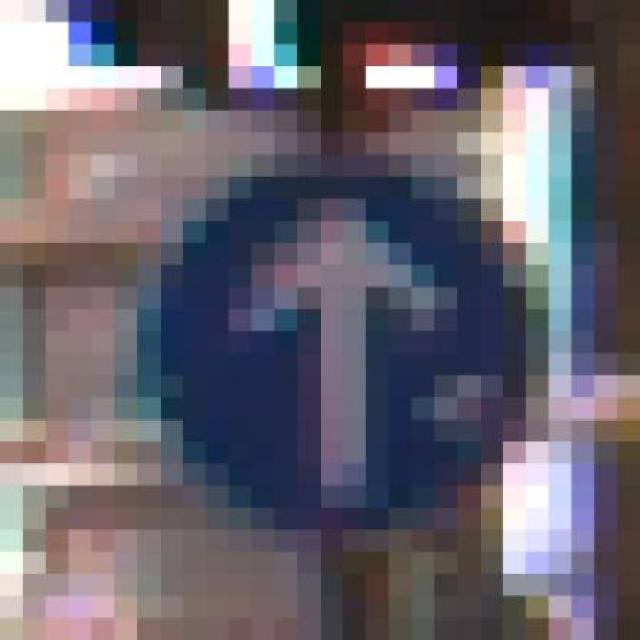Straight Ahead Only: (137, 132, 572, 552)
